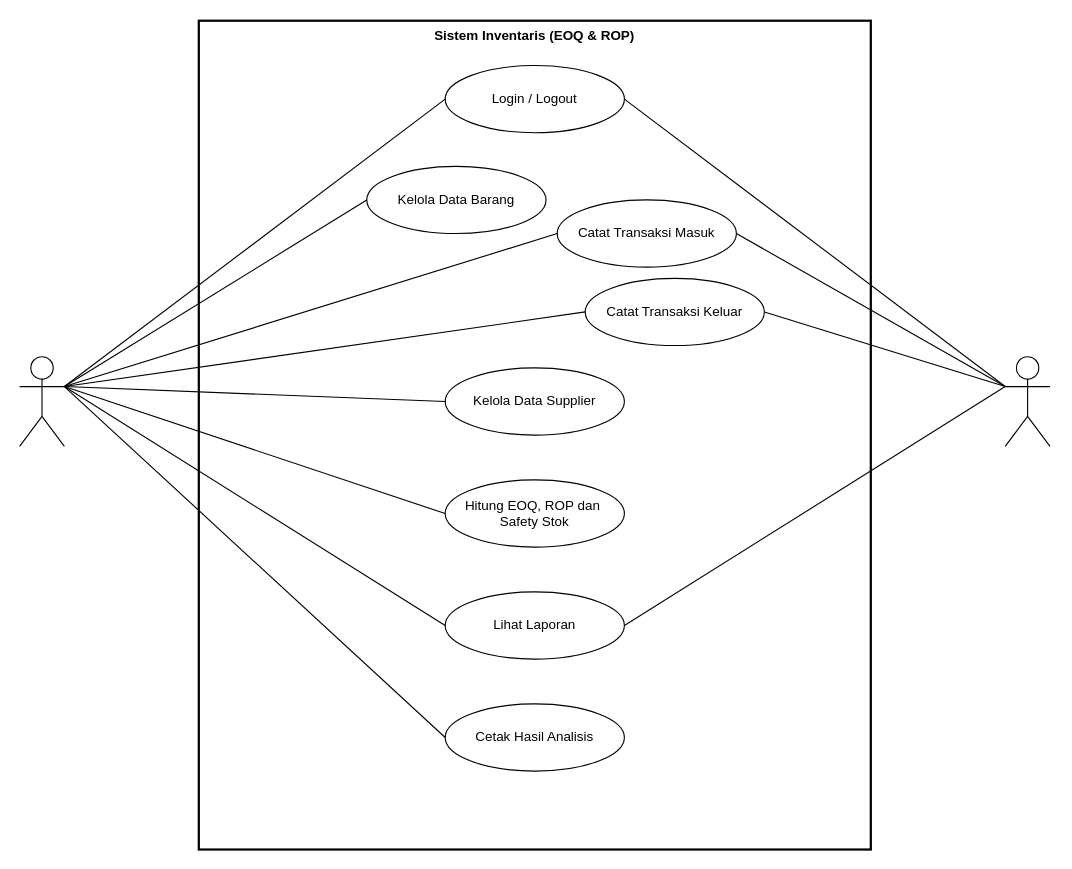
The diagram is 1072 pixels wide and 869 high, and some of its shapes have lost their labels. The shapes that lost their labels are listed below. From the top down, each one's box as (x1, y1, x2, y2) in pixels, then its label:
(18, 356, 64, 446): Admin
(1004, 356, 1050, 446): Petugas
